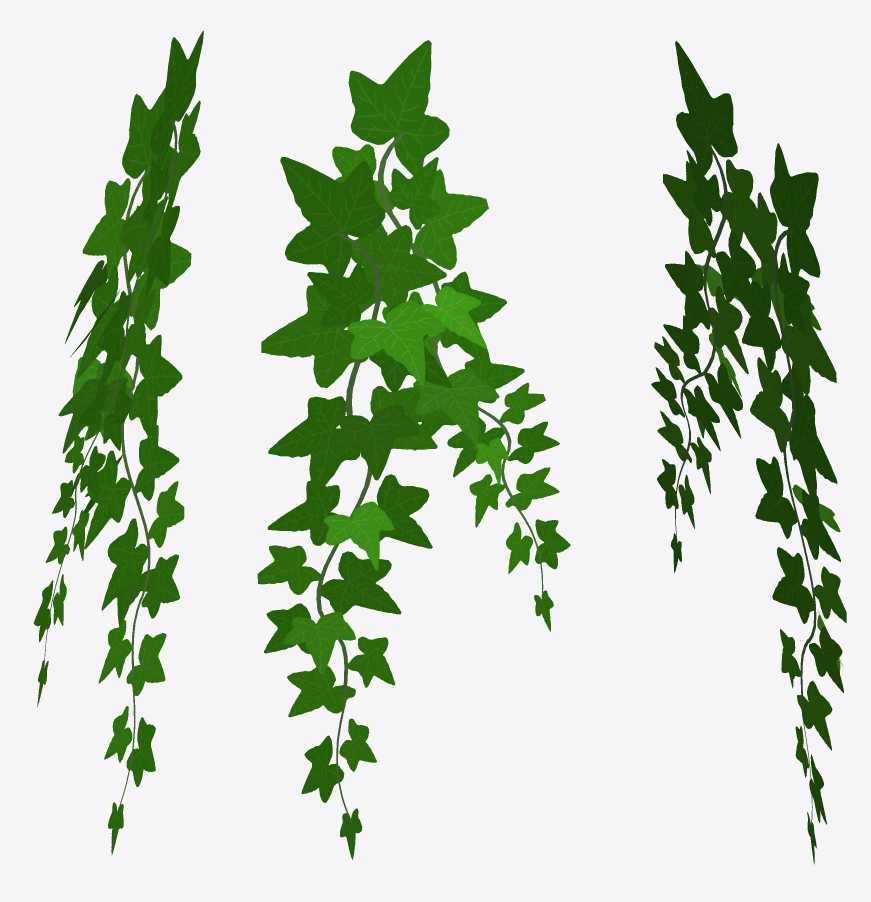
File: PT_Ivy_02.fbx
The picture shows the model from 3 angles, left to right: view 1: azimuth 30°, elevation 25°; view 2: azimuth 150°, elevation 25°; view 3: azimuth 270°, elevation 25°; orthographic projection. The views are drawn at different scales.
Parts seen in each view (by area): view 1: PT_Ivy_02; view 2: PT_Ivy_02; view 3: PT_Ivy_02.
Boxes of the visible parts, <box> form: PT_Ivy_02: <box>33,30,203,854</box>; PT_Ivy_02: <box>257,40,570,859</box>; PT_Ivy_02: <box>651,41,846,864</box>.
Size of the model in its own units: 49.73 by 153 by 35.06.
